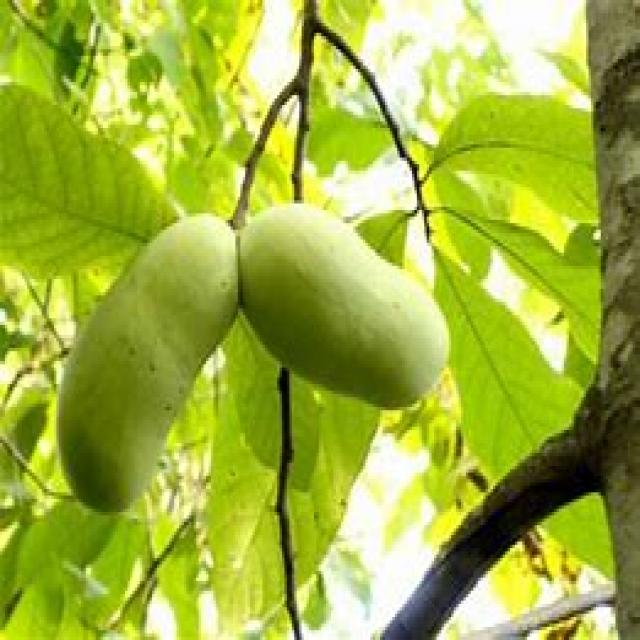Mango: (57, 246, 214, 515), (242, 202, 448, 403)
